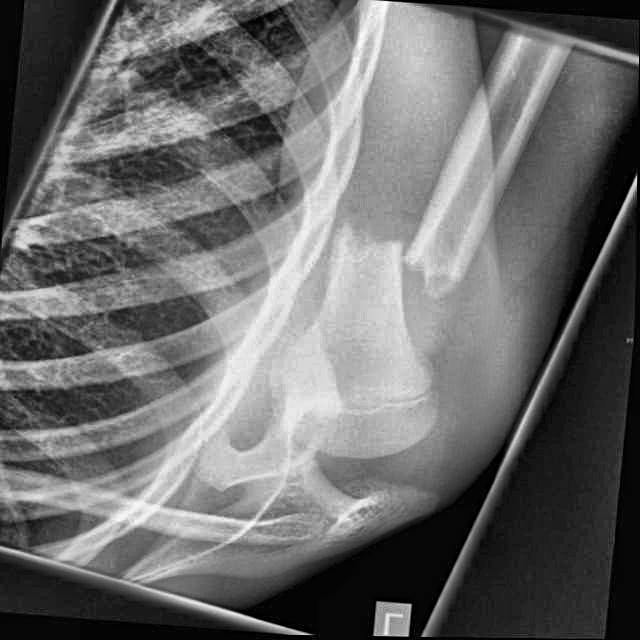Transverse: (312, 182, 521, 329)
